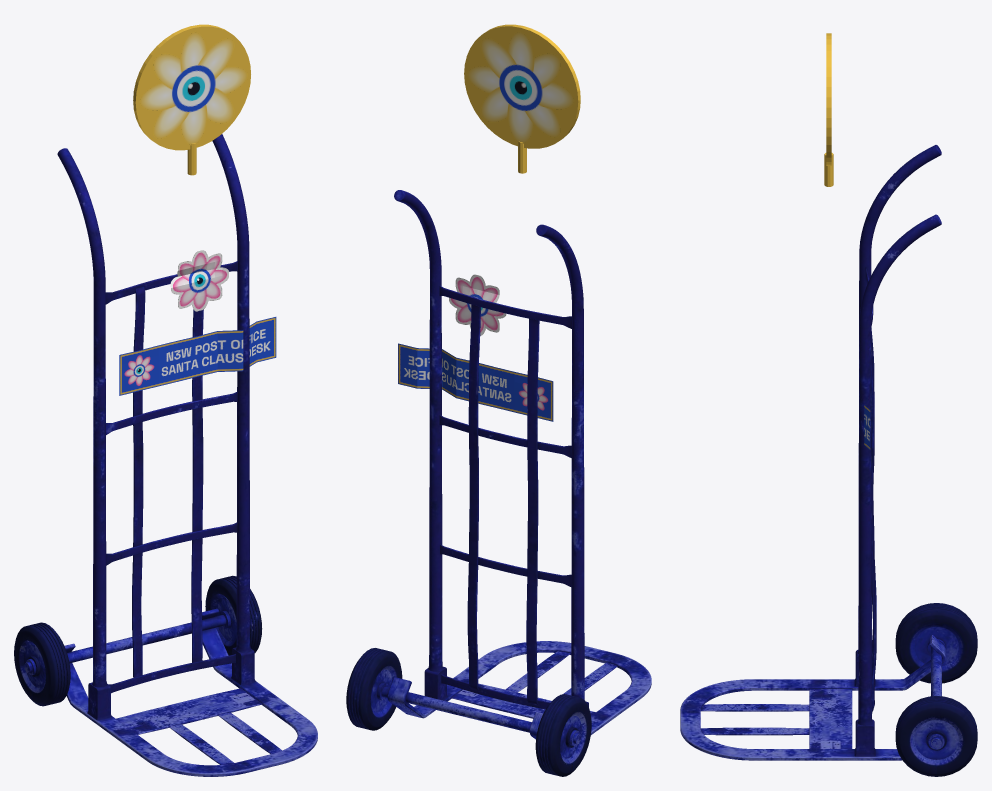
Rendered from nyb_miracle_mailcart.glb.
3 views of the same model, side by side, from view 1: azimuth 30°, elevation 25°; view 2: azimuth 150°, elevation 25°; view 3: azimuth 270°, elevation 25° (orthographic).
Visible parts, largest first — view 1: hand_truck, add_eyeflower_gold.png, stk_lbl_49fd5e787b.png, Cylinder, stk_eyeflower_die.png; view 2: hand_truck, add_eyeflower_gold.png, stk_lbl_49fd5e787b.png, Cylinder, stk_eyeflower_die.png; view 3: hand_truck, Cylinder.
Part boxes in pixels (bbox=[...]): hand_truck: bbox=[14, 134, 317, 776]; add_eyeflower_gold.png: bbox=[139, 31, 247, 145]; stk_lbl_49fd5e787b.png: bbox=[119, 317, 276, 395]; Cylinder: bbox=[133, 24, 250, 150]; stk_eyeflower_die.png: bbox=[170, 250, 228, 311]; hand_truck: bbox=[346, 190, 651, 776]; add_eyeflower_gold.png: bbox=[467, 31, 574, 143]; stk_lbl_49fd5e787b.png: bbox=[398, 343, 553, 421]; Cylinder: bbox=[464, 24, 580, 148]; stk_eyeflower_die.png: bbox=[449, 274, 506, 335]; hand_truck: bbox=[680, 145, 977, 776]; Cylinder: bbox=[826, 33, 831, 165].
Bounding box in the file's own units: 0.5933 × 1.77 × 0.6926.
6 materials, 4 textured.
